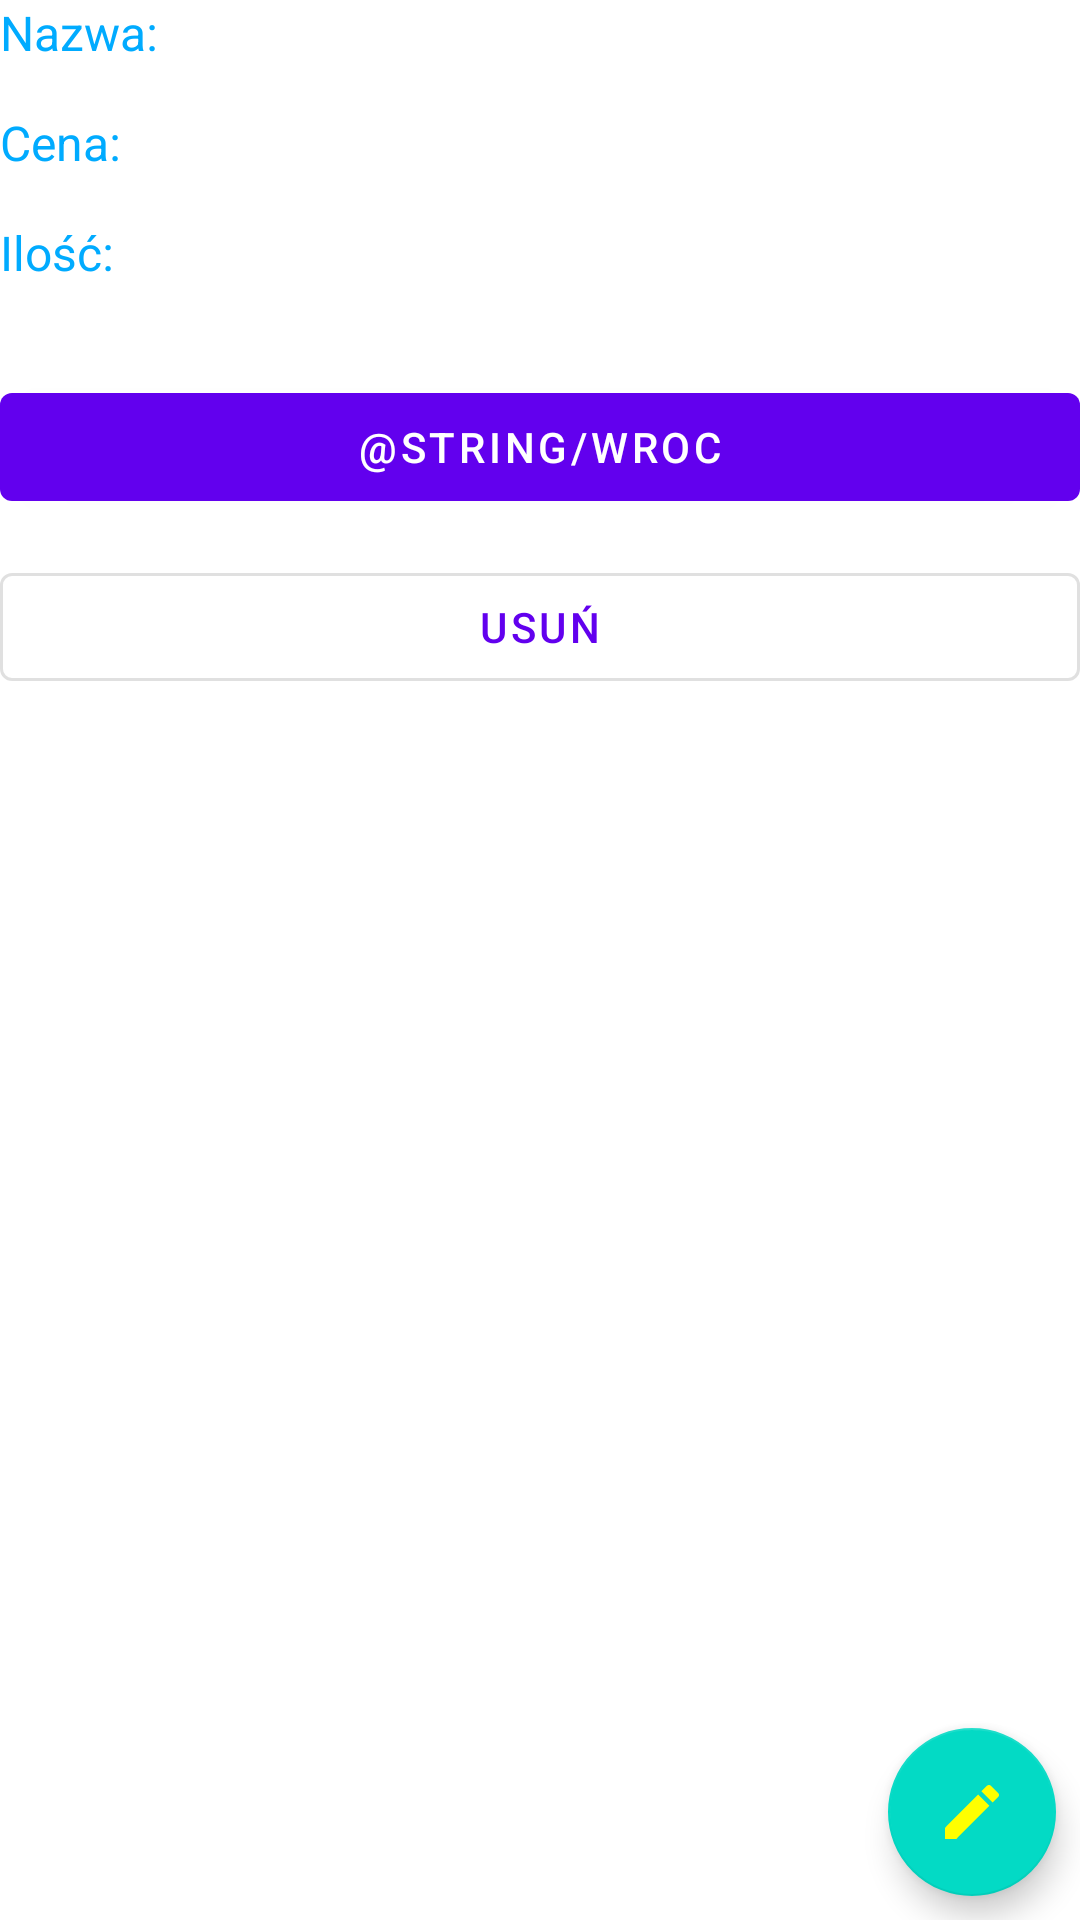

Icons on this 1080x1920 Android screen, each with its box as [left=x1, top=y1, right=x2, bottom=y2]:
Edytuj: [left=888, top=1728, right=1056, bottom=1896]
